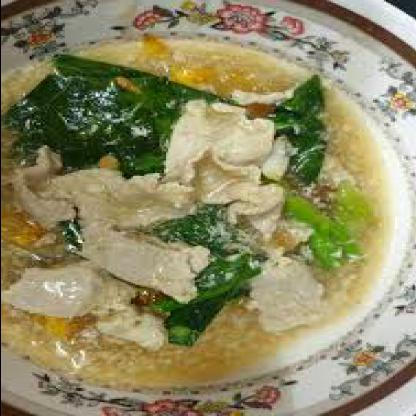Laadna: (2, 36, 385, 408)
